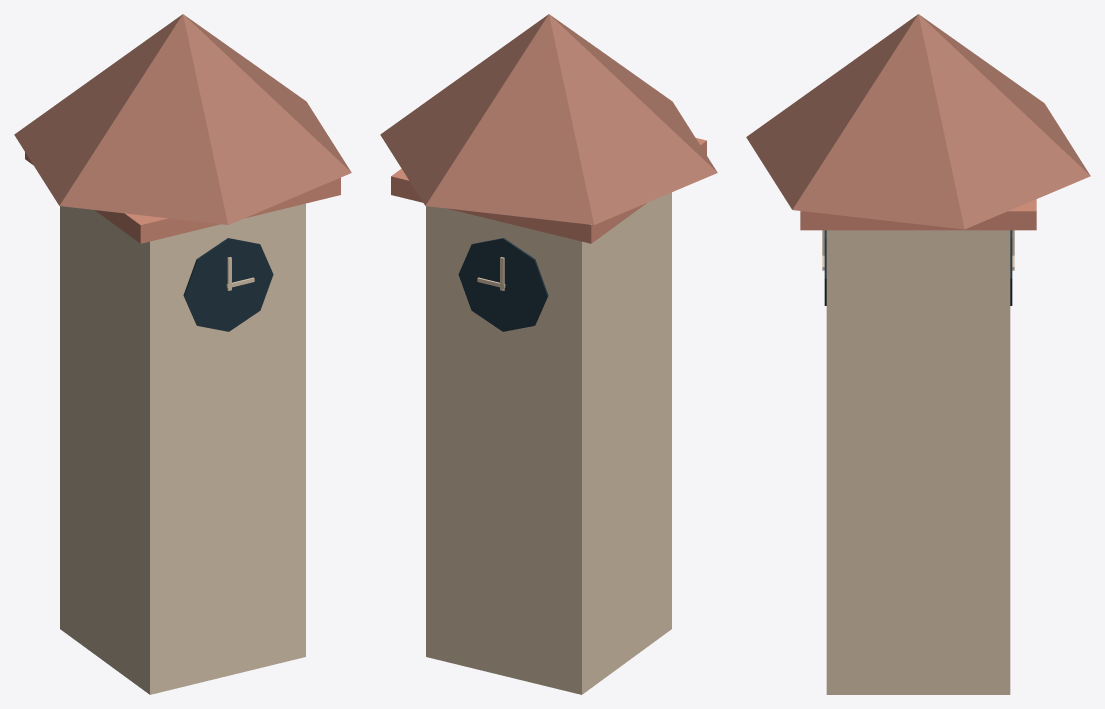
The model's file is clockTower.obj.
3 views of the same model, side by side, from view 1: azimuth 30°, elevation 25°; view 2: azimuth 150°, elevation 25°; view 3: azimuth 270°, elevation 25° (orthographic). The views are drawn at different scales.
Parts seen in each view (by area): view 1: clockTower; view 2: clockTower; view 3: clockTower.
Part boxes in pixels (bbox=[...]): clockTower: bbox=[14, 14, 351, 694]; clockTower: bbox=[380, 14, 717, 694]; clockTower: bbox=[746, 14, 1090, 694].
Bounding box in the file's own units: 6.57 × 13.5 × 6.57.
